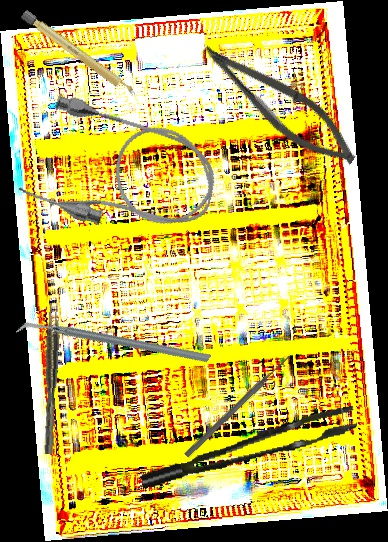Cannula: (15, 89, 228, 254)
Chopper: (15, 256, 212, 432)
Micro Scissor: (188, 34, 369, 177)
Pusher: (183, 351, 294, 460)
Scalpel Handle: (19, 9, 139, 100)
Tissue Forceps: (135, 405, 362, 489), (40, 302, 61, 455)
